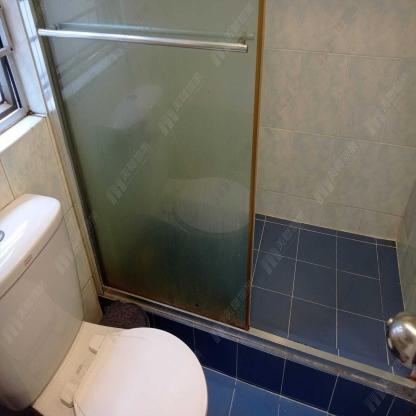Toilet: (0, 193, 205, 416)
Water Cubicle: (39, 0, 416, 416)
